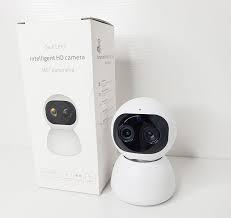maru: (107, 93, 184, 211)
